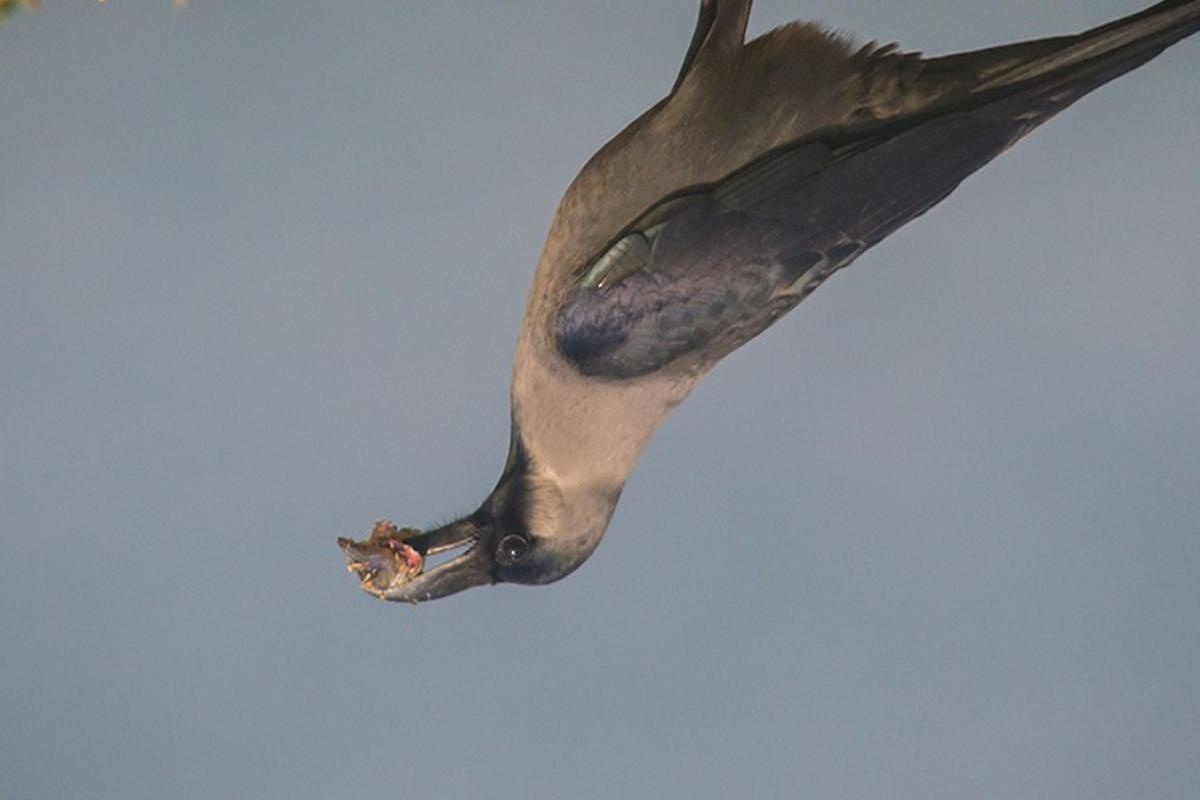crow: (343, 1, 1185, 622)
